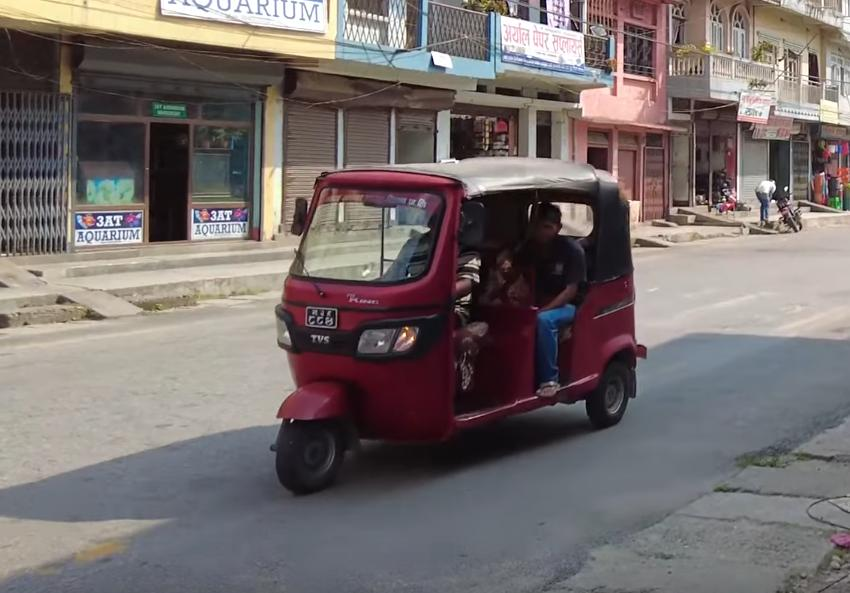auto_rickshaw: (252, 148, 662, 501)
